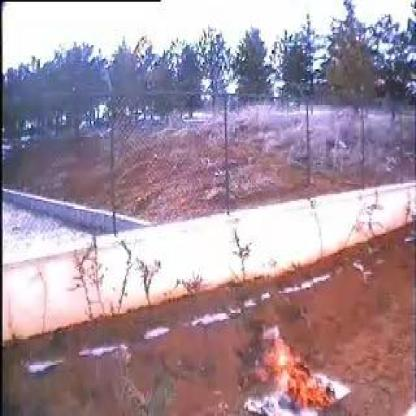foggia-v2-map80-epoch100 - v1 4323: (267, 338, 330, 407)
